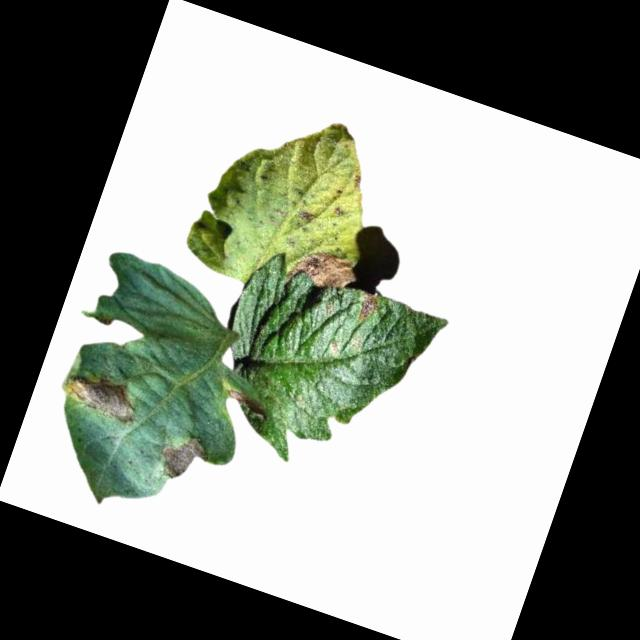Early_blight: (62, 362, 145, 428), (283, 240, 360, 298), (152, 424, 213, 487), (221, 387, 272, 423), (355, 291, 383, 325), (298, 208, 313, 220)
